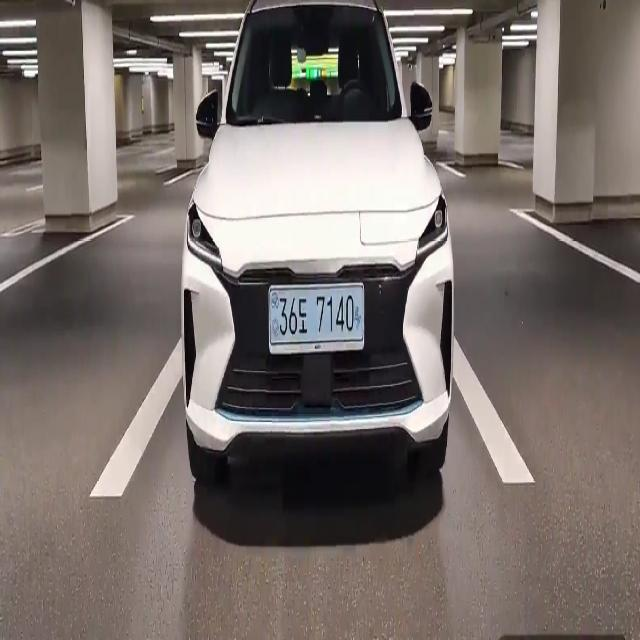car: (269, 283, 366, 352)
carev: (351, 280, 367, 350), (268, 282, 282, 350)
